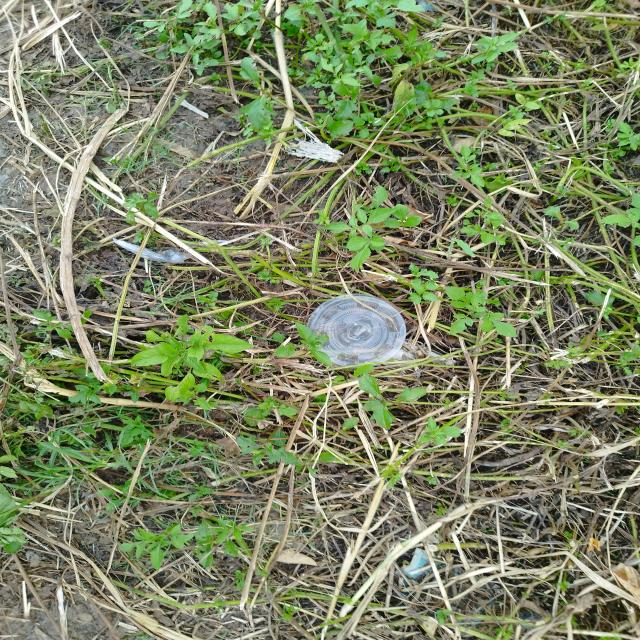bag: (112, 236, 188, 264)
lid: (308, 294, 406, 367)
